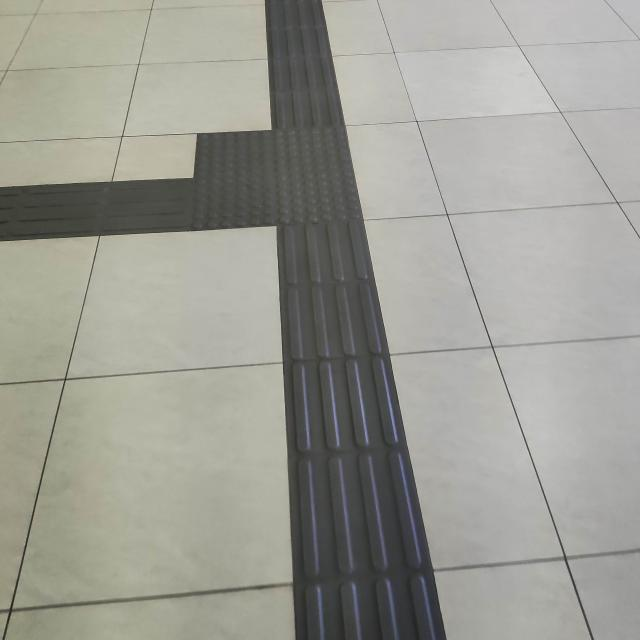lurus: (252, 240, 463, 629)
